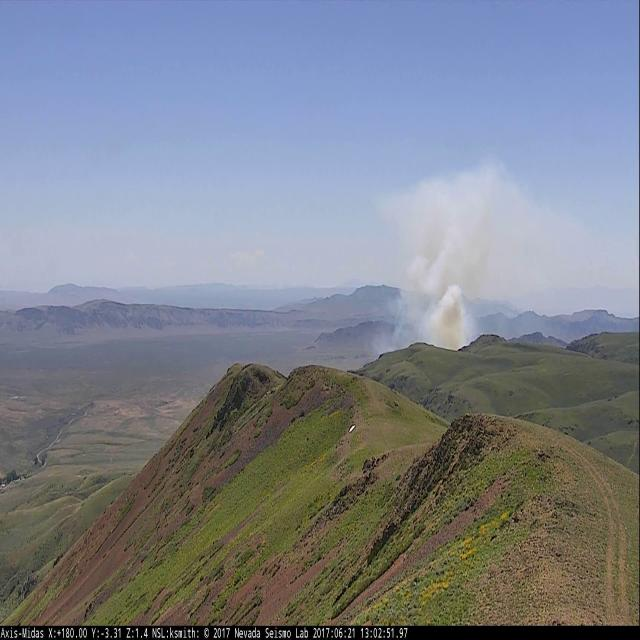smoke: (374, 143, 540, 374)
